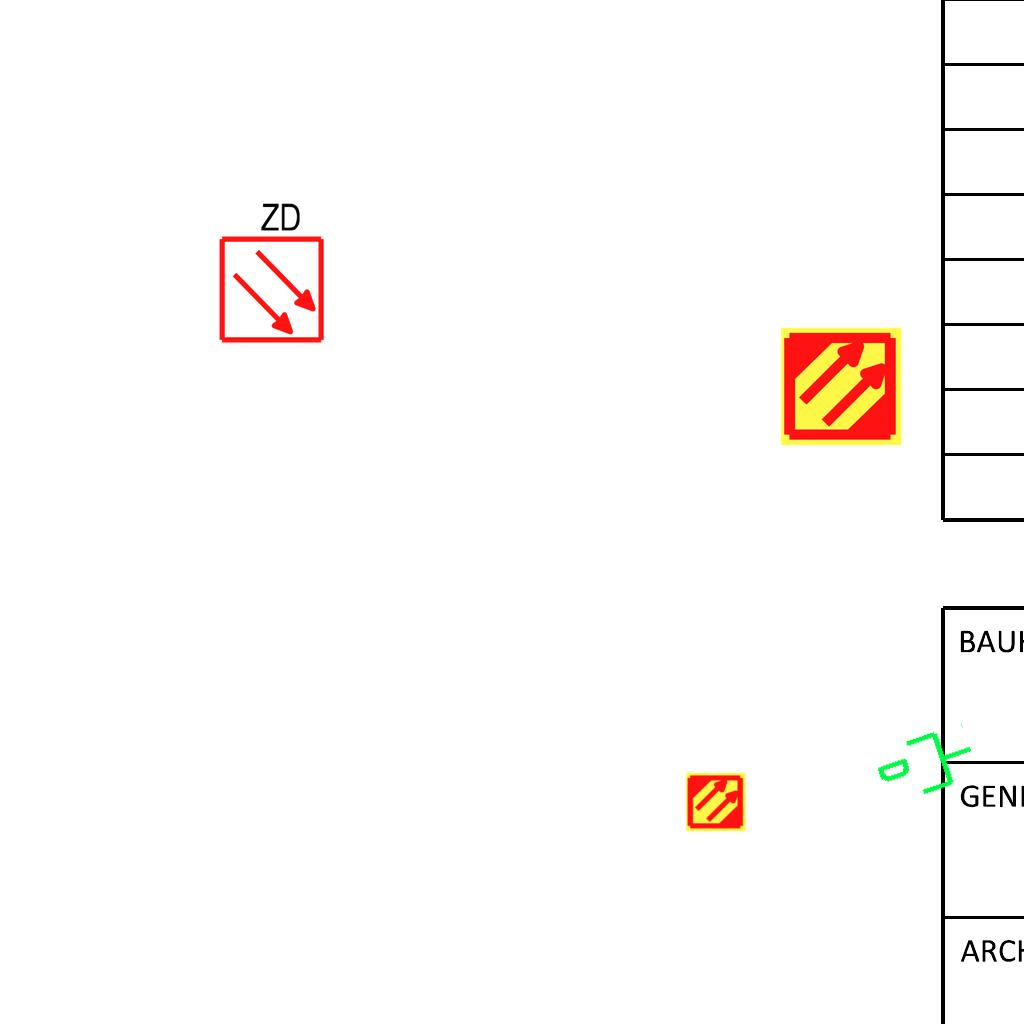ASR_Ansaugrauchmelder: (779, 324, 904, 449), (685, 771, 747, 833)
Datenanschluss_einfach: (867, 717, 986, 815)
ZD_Melder_in_Zwischendecke_mit_Revisionsoeffnung_mind_40_x_40_cm: (213, 196, 327, 345)
